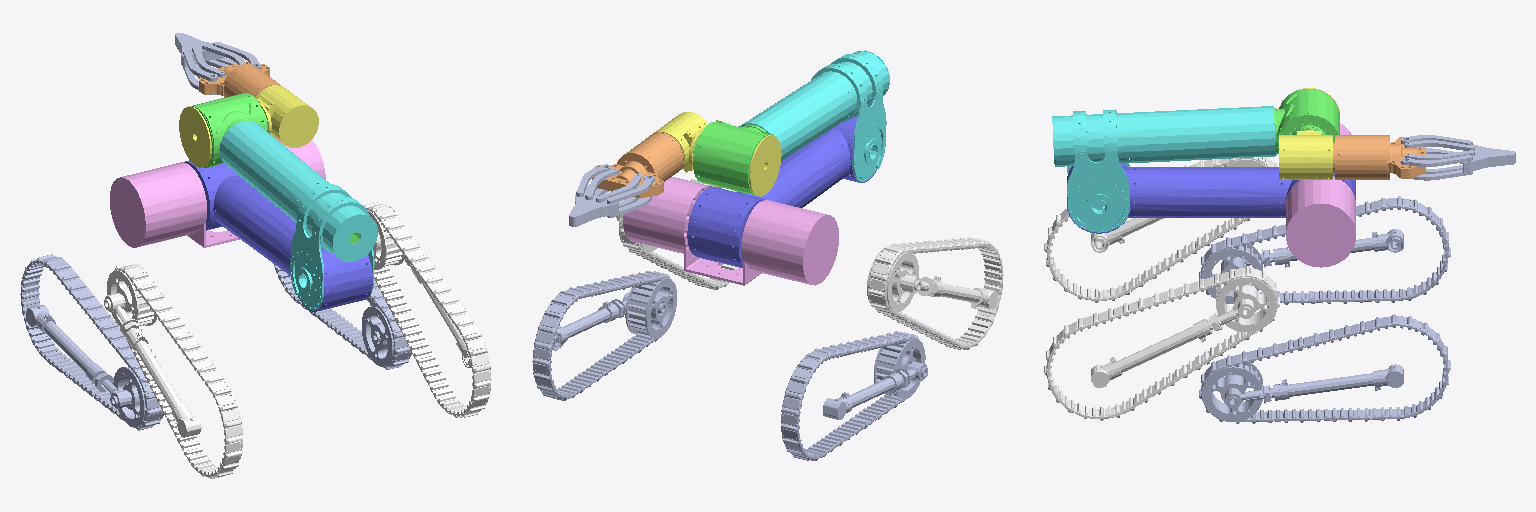
The robot description file, URDF, robot "part_assembly_for_urdf":
<?xml version="1.0" encoding="utf-8"?>
<!-- This URDF was automatically created by SolidWorks to URDF Exporter! Originally created by Stephen Brawner (brawner@gmail.com) 
     Commit Version: 1.6.0-4-g7f85cfe  Build Version: 1.6.7995.38578
     For more information, please see http://wiki.ros.org/sw_urdf_exporter -->
<robot
  name="part_assembly_for_urdf">
  <link
    name="base_link">
    <inertial>
      <origin
        xyz="0.00011817 -0.1067 0.10785"
        rpy="0 0 0" />
      <mass
        value="6.1675" />
      <inertia
        ixx="0.16028"
        ixy="2.1564E-05"
        ixz="1.3039E-05"
        iyy="0.066764"
        iyz="-0.0016682"
        izz="0.18301" />
    </inertial>
    <visual>
      <origin
        xyz="0 0 0"
        rpy="0 0 0" />
      <geometry>
        <mesh
          filename="package://part_assembly_for_urdf/meshes/base_link.STL" />
      </geometry>
      <material
        name="">
        <color
          rgba="0.50196 0.50196 0.50196 1" />
      </material>
    </visual>
    <collision>
      <origin
        xyz="0 0 0"
        rpy="0 0 0" />
      <geometry>
        <mesh
          filename="package://part_assembly_for_urdf/meshes/base_link.STL" />
      </geometry>
    </collision>
  </link>
  <link
    name="turret_Link">
    <inertial>
      <origin
        xyz="-1.3112E-09 -3.2279E-11 -0.065431"
        rpy="0 0 0" />
      <mass
        value="0.0015793" />
      <inertia
        ixx="2.4662E-06"
        ixy="-6.8917E-16"
        ixz="-4.1905E-14"
        iyy="1.5433E-05"
        iyz="1.5532E-15"
        izz="1.5252E-05" />
    </inertial>
    <visual>
      <origin
        xyz="0 0 0"
        rpy="0 0 0" />
      <geometry>
        <mesh
          filename="package://part_assembly_for_urdf/meshes/turret_Link.STL" />
      </geometry>
      <material
        name="">
        <color
          rgba="1 0.74902 1 1" />
      </material>
    </visual>
    <collision>
      <origin
        xyz="0 0 0"
        rpy="0 0 0" />
      <geometry>
        <mesh
          filename="package://part_assembly_for_urdf/meshes/turret_Link.STL" />
      </geometry>
    </collision>
  </link>
  <joint
    name="turret_Joint"
    type="revolute">
    <origin
      xyz="0 0 0.21647"
      rpy="3.1416 0 0" />
    <parent
      link="base_link" />
    <child
      link="turret_Link" />
    <axis
      xyz="0 0 1" />
    <limit
      lower="-3.14"
      upper="3.14"
      effort="10"
      velocity="1.57" />
    <dynamics
      damping="0.5"
      friction="0.1" />
  </joint>
  <link
    name="shoulder_Link">
    <inertial>
      <origin
        xyz="0.000189993441483231 -0.145341068776439 8.20275947610583E-07"
        rpy="0 0 0" />
      <mass
        value="0.000275005713861268" />
      <inertia
        ixx="5.46880577961511E-06"
        ixy="1.04545946886239E-08"
        ixz="-1.1327313272109E-11"
        iyy="5.25699063606665E-07"
        iyz="1.44248202941957E-11"
        izz="5.38797735272456E-06" />
    </inertial>
    <visual>
      <origin
        xyz="0 0 0"
        rpy="0 0 0" />
      <geometry>
        <mesh
          filename="package://part_assembly_for_urdf/meshes/shoulder_Link.STL" />
      </geometry>
      <material
        name="">
        <color
          rgba="0.501960784313725 0.501960784313725 1 1" />
      </material>
    </visual>
    <collision>
      <origin
        xyz="0 0 0"
        rpy="0 0 0" />
      <geometry>
        <mesh
          filename="package://part_assembly_for_urdf/meshes/shoulder_Link.STL" />
      </geometry>
    </collision>
  </link>
  <joint
    name="shoulder_Joint"
    type="revolute">
    <origin
      xyz="0 0 -0.068"
      rpy="-3.1416 0 0" />
    <parent
      link="turret_Link" />
    <child
      link="shoulder_Link" />
    <axis
      xyz="1 0 0" />
    <limit
      lower="-3.14"
      upper="0"
      effort="20"
      velocity="1.05" />
    <dynamics
      damping="0.5"
      friction="0.1" />
  </joint>
  <link
    name="elbow_Link">
    <inertial>
      <origin
        xyz="0.00108378073824748 -0.0544704067861682 -0.0711465326264925"
        rpy="0 0 0" />
      <mass
        value="0.000311735552810812" />
      <inertia
        ixx="3.42146740327176E-06"
        ixy="-1.41401250526636E-09"
        ixz="-1.80890298797538E-09"
        iyy="9.84123917897388E-07"
        iyz="-3.45597195007664E-07"
        izz="3.09442840414046E-06" />
    </inertial>
    <visual>
      <origin
        xyz="0 0 0"
        rpy="0 0 0" />
      <geometry>
        <mesh
          filename="package://part_assembly_for_urdf/meshes/elbow_Link.STL" />
      </geometry>
      <material
        name="">
        <color
          rgba="0.501960784313725 1 1 1" />
      </material>
    </visual>
    <collision>
      <origin
        xyz="0 0 0"
        rpy="0 0 0" />
      <geometry>
        <mesh
          filename="package://part_assembly_for_urdf/meshes/elbow_Link.STL" />
      </geometry>
    </collision>
  </link>
  <joint
    name="elbow_Joint"
    type="revolute">
    <origin
      xyz="0 -0.3452 0"
      rpy="-3.0892 0 0" />
    <parent
      link="shoulder_Link" />
    <child
      link="elbow_Link" />
    <axis
      xyz="1 0 0" />
    <limit
      lower="0"
      upper="3.14"
      effort="15"
      velocity="1.57" />
    <dynamics
      damping="0.5"
      friction="0.1" />
  </joint>
  <link
    name="telescope_Link">
    <inertial>
      <origin
        xyz="0.00918638003199307 -0.287985018560746 -1.36948985833274E-05"
        rpy="0 0 0" />
      <mass
        value="0.000504060555121796" />
      <inertia
        ixx="5.29585037817647E-06"
        ixy="1.83230520582703E-07"
        ixz="-2.85665450904861E-10"
        iyy="6.25278240137453E-07"
        iyz="-3.0595904395194E-10"
        izz="5.38586785517834E-06" />
    </inertial>
    <visual>
      <origin
        xyz="0 0 0"
        rpy="0 0 0" />
      <geometry>
        <mesh
          filename="package://part_assembly_for_urdf/meshes/telescope_Link.STL" />
      </geometry>
      <material
        name="">
        <color
          rgba="0.501960784313725 1 0.501960784313725 1" />
      </material>
    </visual>
    <collision>
      <origin
        xyz="0 0 0"
        rpy="0 0 0" />
      <geometry>
        <mesh
          filename="package://part_assembly_for_urdf/meshes/telescope_Link.STL" />
      </geometry>
    </collision>
  </link>
  <joint
    name="telescope_Joint"
    type="prismatic">
    <origin
      xyz="0 0 -0.0915"
      rpy="0 0 0" />
    <parent
      link="elbow_Link" />
    <child
      link="telescope_Link" />
    <axis
      xyz="0 1 0" />
    <limit
      lower="-0.33982"
      upper="0"
      effort="50"
      velocity="0.1" />
    <dynamics
      damping="0.5"
      friction="0.1" />
  </joint>
  <link
    name="wrist_pan_Link">
    <inertial>
      <origin
        xyz="0.0535566521627149 0.0021500867814456 2.96463081467246E-06"
        rpy="0 0 0" />
      <mass
        value="0.000115414012460828" />
      <inertia
        ixx="1.20474709847135E-07"
        ixy="-1.22273225799696E-08"
        ixz="-2.50364785934112E-11"
        iyy="5.51162538124596E-07"
        iyz="-1.23627270080061E-11"
        izz="5.72046696652325E-07" />
    </inertial>
    <visual>
      <origin
        xyz="0 0 0"
        rpy="0 0 0" />
      <geometry>
        <mesh
          filename="package://part_assembly_for_urdf/meshes/wrist_pan_Link.STL" />
      </geometry>
      <material
        name="">
        <color
          rgba="1 1 0.501960784313725 1" />
      </material>
    </visual>
    <collision>
      <origin
        xyz="0 0 0"
        rpy="0 0 0" />
      <geometry>
        <mesh
          filename="package://part_assembly_for_urdf/meshes/wrist_pan_Link.STL" />
      </geometry>
    </collision>
  </link>
  <joint
    name="wrist_pan_Joint"
    type="revolute">
    <origin
      xyz="0 -0.33238 0"
      rpy="-0.05236 0 0" />
    <parent
      link="telescope_Link" />
    <child
      link="wrist_pan_Link" />
    <axis
      xyz="1 0 0" />
    <limit
      lower="-3.14"
      upper="3.14"
      effort="5"
      velocity="2.09" />
    <dynamics
      damping="0.5"
      friction="0.1" />
  </joint>
  <link
    name="wrist_roll_Link">
    <inertial>
      <origin
        xyz="-8.96623698246057E-07 -0.0792021778247627 4.22929576529563E-05"
        rpy="0 0 0" />
      <mass
        value="0.000111522796204095" />
      <inertia
        ixx="2.53254834208657E-07"
        ixy="7.2851442710871E-12"
        ixz="-3.40921919474502E-12"
        iyy="1.10624065502073E-07"
        iyz="-7.92451760619561E-11"
        izz="2.99119933807957E-07" />
    </inertial>
    <visual>
      <origin
        xyz="0 0 0"
        rpy="0 0 0" />
      <geometry>
        <mesh
          filename="package://part_assembly_for_urdf/meshes/wrist_roll_Link.STL" />
      </geometry>
      <material
        name="">
        <color
          rgba="0.984313725490196 0.733333333333333 0.513725490196078 1" />
      </material>
    </visual>
    <collision>
      <origin
        xyz="0 0 0"
        rpy="0 0 0" />
      <geometry>
        <mesh
          filename="package://part_assembly_for_urdf/meshes/wrist_roll_Link.STL" />
      </geometry>
    </collision>
  </link>
  <joint
    name="wrist_roll_Joint"
    type="continuous">
    <origin
      xyz="0.10485 -0.037 0"
      rpy="-3.1416 0 3.1416" />
    <parent
      link="wrist_pan_Link" />
    <child
      link="wrist_roll_Link" />
    <axis
      xyz="0 1 0" />
    <limit
      effort="3"
      velocity="3.14" />
    <dynamics
      damping="0.5"
      friction="0.1" />
  </joint>
  <link
    name="gripper_Link">
    <inertial>
      <origin
        xyz="-1.63339342051927E-11 -4.64352445384009E-11 0.0436315349703006"
        rpy="0 0 0" />
      <mass
        value="0.108551291174862" />
      <inertia
        ixx="0.00021750584056198"
        ixy="-1.66343932468778E-06"
        ixz="1.54843841198365E-18"
        iyy="0.000282694755289285"
        iyz="1.4915155529304E-18"
        izz="8.31048800461349E-05" />
    </inertial>
    <visual>
      <origin
        xyz="0 0 0"
        rpy="0 0 0" />
      <geometry>
        <mesh
          filename="package://part_assembly_for_urdf/meshes/gripper_Link.STL" />
      </geometry>
      <material
        name="">
        <color
          rgba="0.792156862745098 0.819607843137255 0.929411764705882 1" />
      </material>
    </visual>
    <collision>
      <origin
        xyz="0 0 0"
        rpy="0 0 0" />
      <geometry>
        <mesh
          filename="package://part_assembly_for_urdf/meshes/gripper_Link.STL" />
      </geometry>
    </collision>
  </link>
  <joint
    name="gripper_Joint"
    type="fixed">
    <origin
      xyz="0 -0.24015 0"
      rpy="-1.5708 -0.025495 0" />
    <parent
      link="wrist_roll_Link" />
    <child
      link="gripper_Link" />
    <axis
      xyz="0 0 0" />
    <limit
      effort="5"
      velocity="0.05" />
  </joint>
  <link
    name="front_flipper_Link">
    <inertial>
      <origin
        xyz="-0.00100002194717367 -0.149217322406353 -0.0662702802394308"
        rpy="0 0 0" />
      <mass
        value="0.654827358568309" />
      <inertia
        ixx="0.00743013588641711"
        ixy="-1.68971010856713E-10"
        ixz="1.64238576331658E-10"
        iyy="0.00211252068956256"
        iyz="-0.00184963128007941"
        izz="0.00545576844767058" />
    </inertial>
    <visual>
      <origin
        xyz="0 0 0"
        rpy="0 0 0" />
      <geometry>
        <mesh
          filename="package://part_assembly_for_urdf/meshes/front_flipper_Link.STL" />
      </geometry>
      <material
        name="">
        <color
          rgba="0.792156862745098 0.819607843137255 0.933333333333333 1" />
      </material>
    </visual>
    <collision>
      <origin
        xyz="0 0 0"
        rpy="0 0 0" />
      <geometry>
        <mesh
          filename="package://part_assembly_for_urdf/meshes/front_flipper_Link.STL" />
      </geometry>
    </collision>
  </link>
  <joint
    name="front_flipper_Joint"
    type="revolute">
    <origin
      xyz="0 0.11592 0.085966"
      rpy="2.5747 0 -3.1416" />
    <parent
      link="base_link" />
    <child
      link="front_flipper_Link" />
    <axis
      xyz="1 0 0" />
    <limit
      lower="-6.28"
      upper="0"
      effort="50"
      velocity="0.1" />
    <dynamics
      damping="0.5"
      friction="0.1" />
  </joint>
  <link
    name="rear_flipper_Link">
    <inertial>
      <origin
        xyz="0 0 0"
        rpy="0 0 0" />
      <mass
        value="0" />
      <inertia
        ixx="0"
        ixy="0"
        ixz="0"
        iyy="0"
        iyz="0"
        izz="0" />
    </inertial>
    <visual>
      <origin
        xyz="0 0 0"
        rpy="0 0 0" />
      <geometry>
        <mesh
          filename="package://part_assembly_for_urdf/meshes/rear_flipper_Link.STL" />
      </geometry>
      <material
        name="">
        <color
          rgba="1 1 1 1" />
      </material>
    </visual>
    <collision>
      <origin
        xyz="0 0 0"
        rpy="0 0 0" />
      <geometry>
        <mesh
          filename="package://part_assembly_for_urdf/meshes/rear_flipper_Link.STL" />
      </geometry>
    </collision>
  </link>
  <joint
    name="rear_flipper_Joint"
    type="revolute">
    <origin
      xyz="0 -0.344081156926502 0.0859661451680933"
      rpy="-0.888988419389572 0 3.14159265358979" />
    <parent
      link="base_link" />
    <child
      link="rear_flipper_Link" />
    <axis
      xyz="1 0 0" />
    <limit
      lower="0"
      upper="6.28"
      effort="50"
      velocity="0.1" />
    <dynamics
      damping="0.5"
      friction="0.1" />
  </joint>
</robot>

--- What the picture shows (computed from the rendered views, not written in the file) ---
3 views of the same robot in one strip: view 1: azimuth 30°, elevation 25°; view 2: azimuth 150°, elevation 25°; view 3: azimuth 270°, elevation 25° (orthographic).
Robot: part_assembly_for_urdf — 10 links, 9 joints (6 revolute, 1 continuous, 1 prismatic, 1 fixed); root link base_link; default pose: every joint at zero.
Visible links, largest first — view 1: rear_flipper_Link, front_flipper_Link, elbow_Link, shoulder_Link, turret_Link, wrist_pan_Link, gripper_Link, telescope_Link, wrist_roll_Link; view 2: front_flipper_Link, turret_Link, elbow_Link, rear_flipper_Link, shoulder_Link, telescope_Link, wrist_roll_Link, gripper_Link, wrist_pan_Link; view 3: front_flipper_Link, elbow_Link, rear_flipper_Link, shoulder_Link, turret_Link, wrist_roll_Link, gripper_Link, wrist_pan_Link, telescope_Link.
Link boxes in pixels (x1,y1,x2,y2): rear_flipper_Link: (104,202,491,478); front_flipper_Link: (20,254,411,430); elbow_Link: (219,121,377,310); shoulder_Link: (184,160,372,311); turret_Link: (110,140,325,247); wrist_pan_Link: (179,85,318,167); gripper_Link: (175,33,260,94); telescope_Link: (192,93,359,243); wrist_roll_Link: (199,61,280,97); front_flipper_Link: (532,271,927,460); turret_Link: (623,177,838,285); elbow_Link: (739,50,889,181); rear_flipper_Link: (616,179,1003,349); shoulder_Link: (687,115,877,267); telescope_Link: (693,120,773,195); wrist_roll_Link: (592,132,683,197); gripper_Link: (569,164,654,226); wrist_pan_Link: (653,112,781,196); front_flipper_Link: (1199,196,1450,423); elbow_Link: (1052,106,1276,232); rear_flipper_Link: (1044,157,1279,420); shoulder_Link: (1067,164,1355,233); turret_Link: (1286,123,1355,267); wrist_roll_Link: (1333,135,1425,179); gripper_Link: (1401,135,1515,180); wrist_pan_Link: (1279,88,1339,179); telescope_Link: (1127,89,1339,153).
Bounding box of the posed robot: 0.5286 × 0.7328 × 0.446 m (x, y, z).
9 mesh visuals loaded from 10 distinct referenced files (9 binary STL); not drawn: 1 (reference not matched to a file when rendering).
